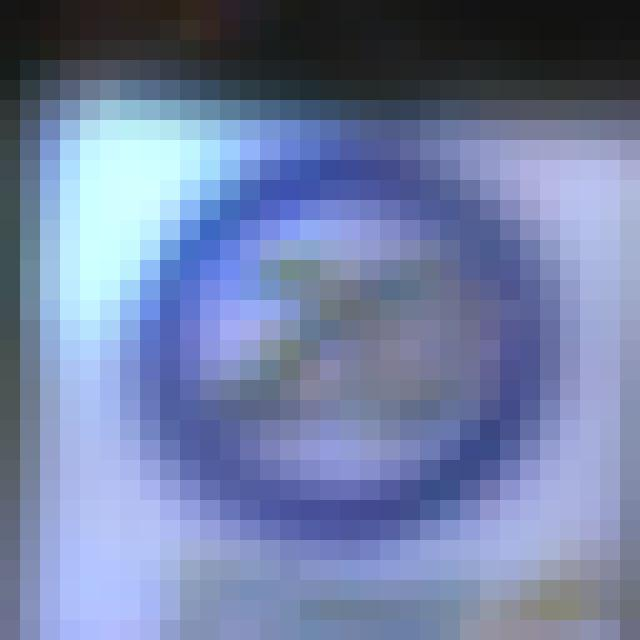SPEED LIMIT 20: (156, 173, 566, 547)
